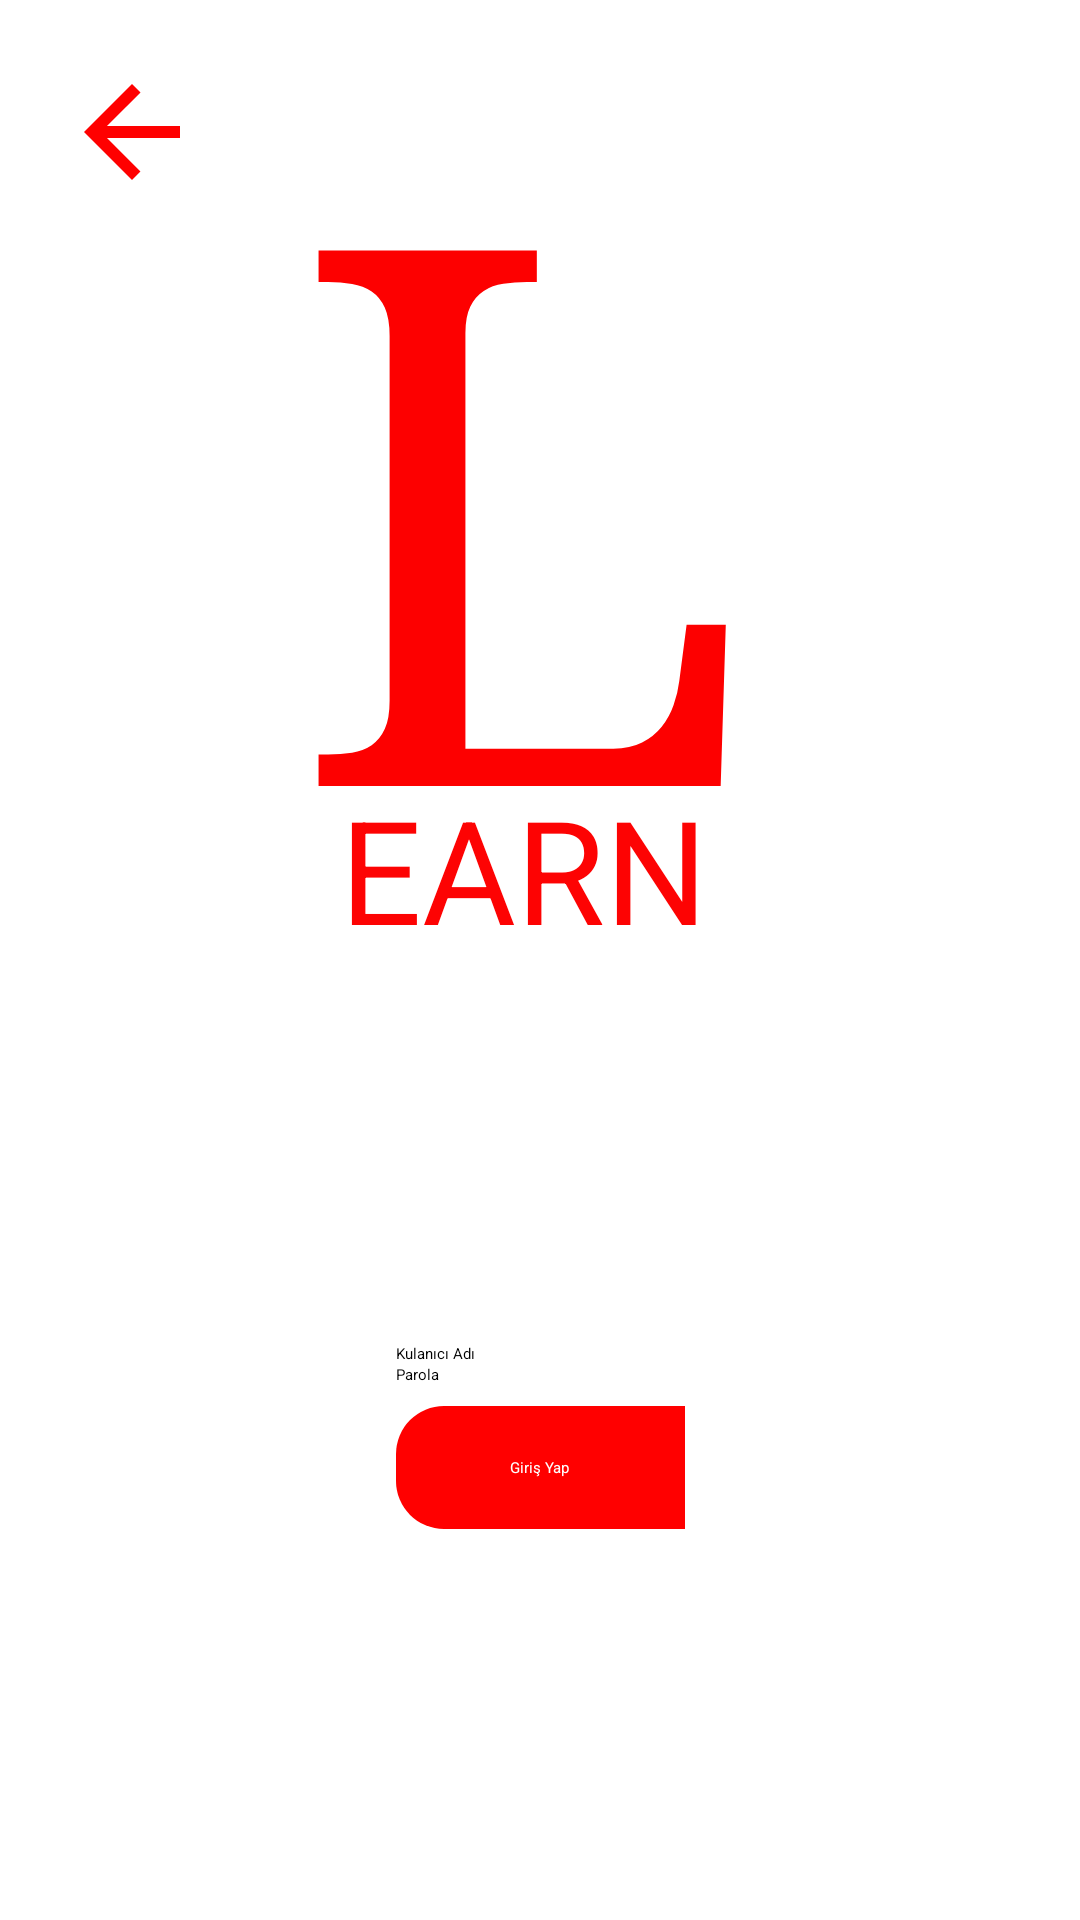

Named icons in this screenshot (1080 x 1920) and their centers, (x=x, y=y):
arrow back: (x=132, y=132)
